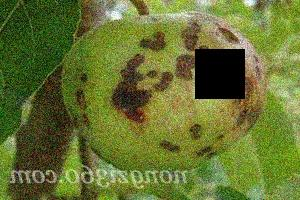rotten apple: (55, 5, 277, 171)
